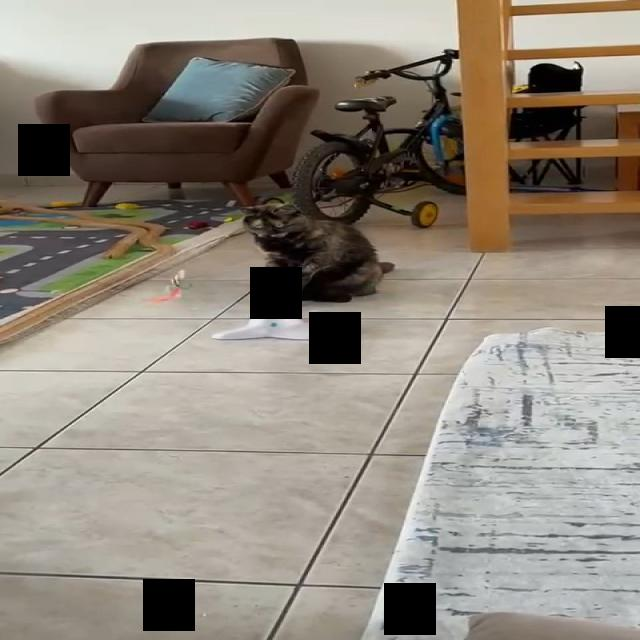authorized: (237, 201, 395, 307)
